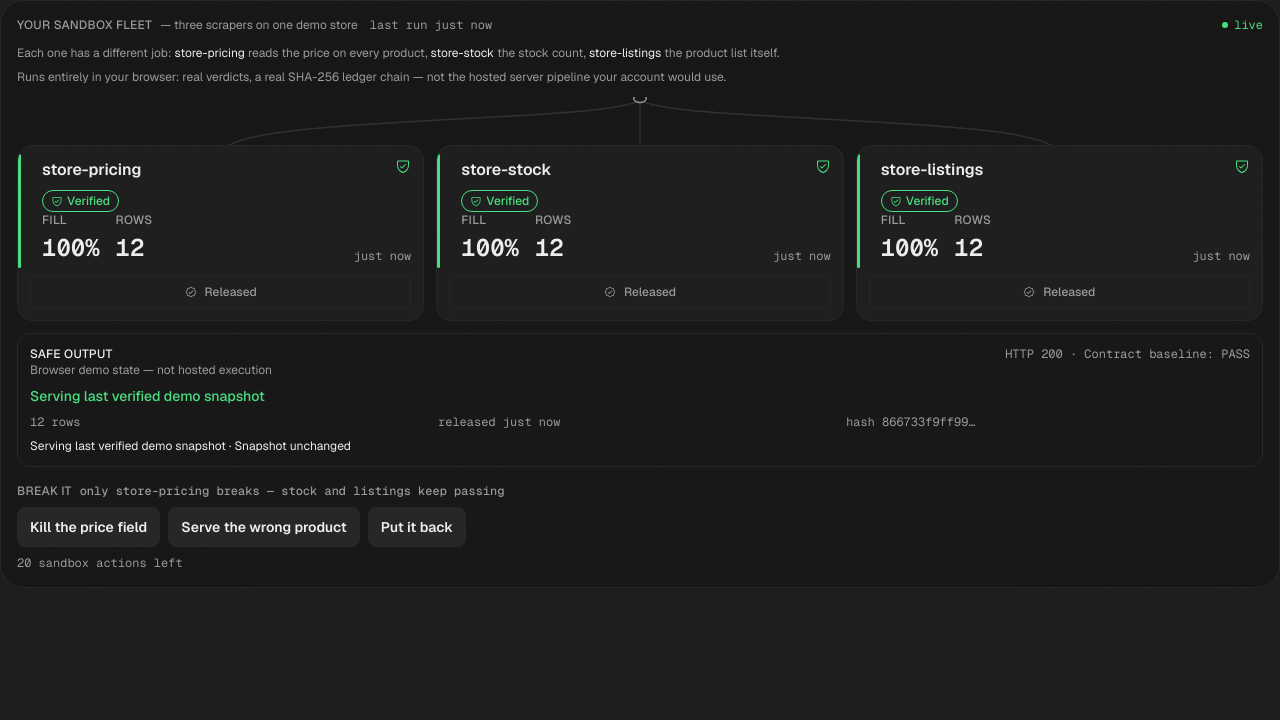
SandboxPanel — the interaction contract (ux-spec.md §3) › serving the wrong product resolves to Wrong target with the repair slot refused, computed not hardcoded
Click the button with test id "sandbox-break-wrong_entity": coordinates (264, 527) x1=168 y1=507 x2=360 y2=547
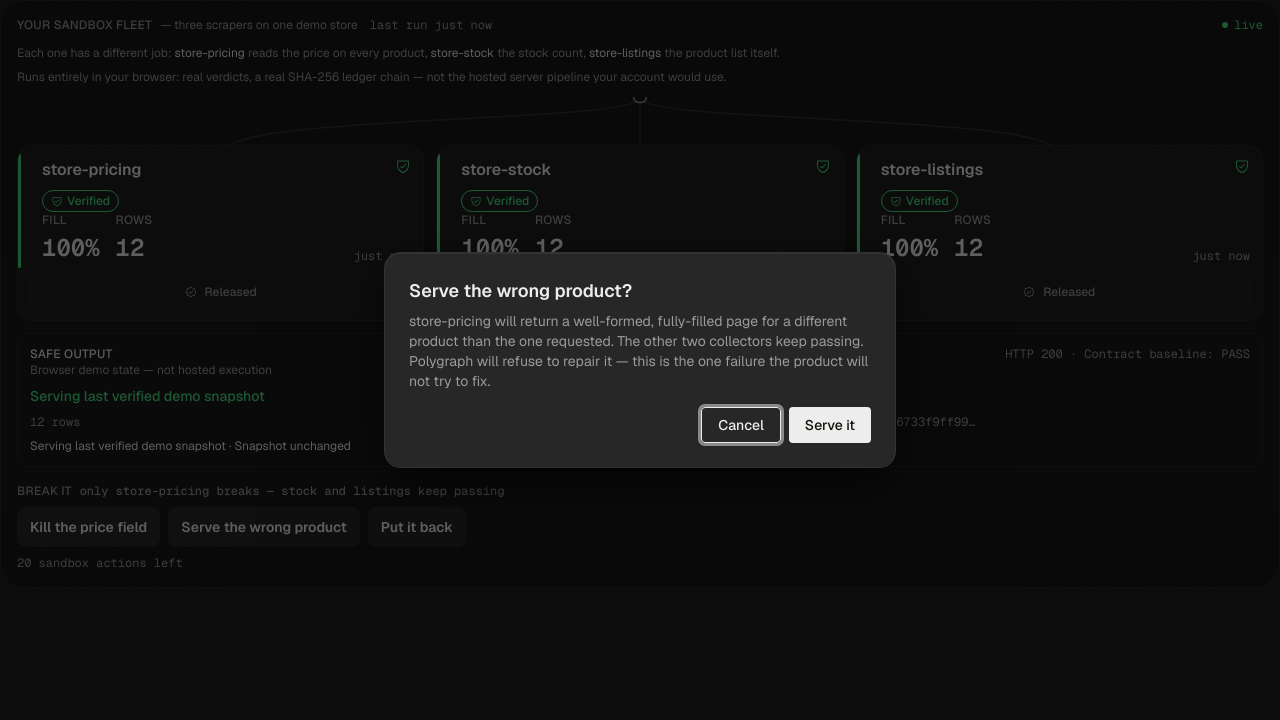
Click the button "Serve it": coordinates (830, 425) x1=789 y1=407 x2=871 y2=443
Wait 2200 ms
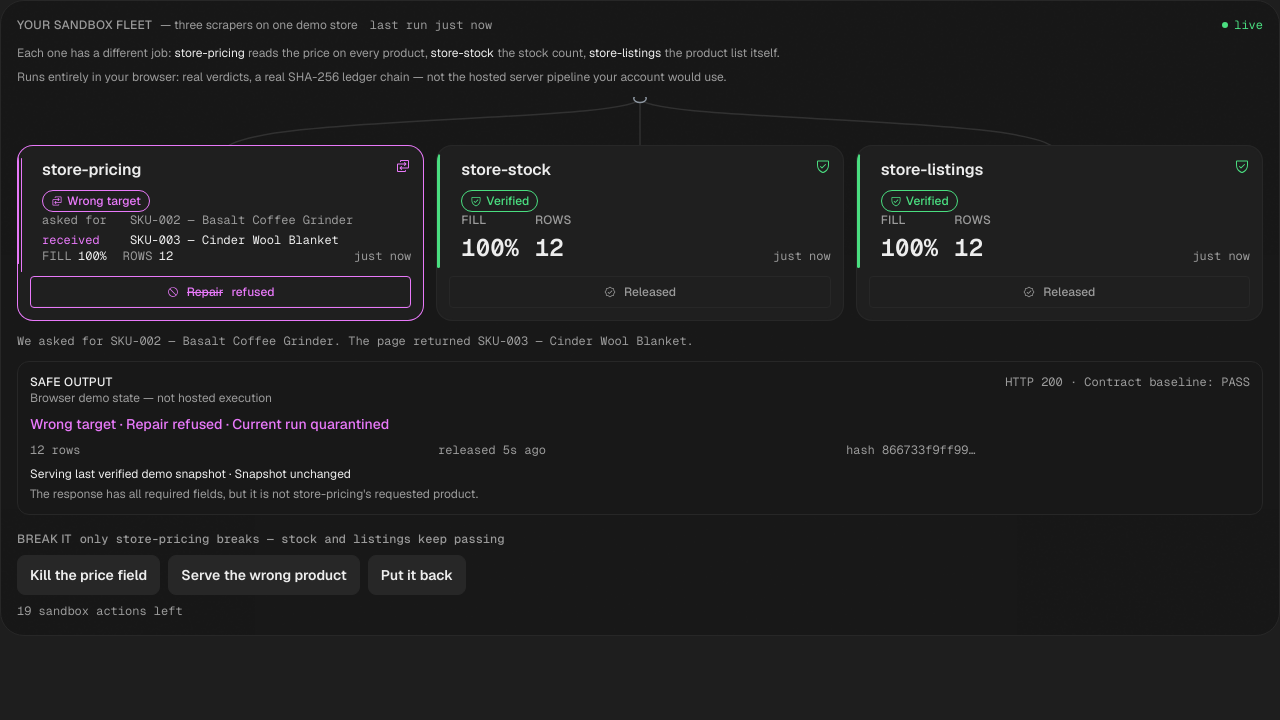
Expected: the text "refused" is shown, x1=232 y1=284 x2=275 y2=300
Expected: the number of elements with test id "entity-key-swap" is 1, x1=42 y1=212 x2=353 y2=248
Expected: the element with test id "safe-output-panel" shows "Wrong target", x1=30 y1=415 x2=389 y2=433
